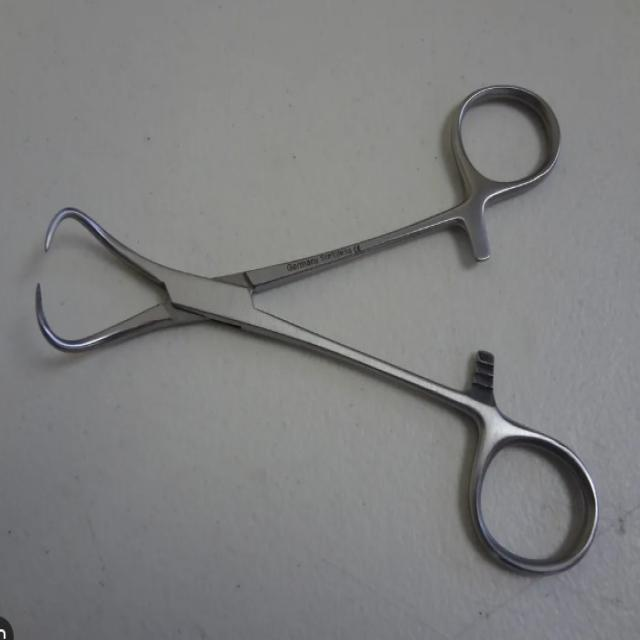Backhaus Towel Clamp: (31, 80, 603, 583)
